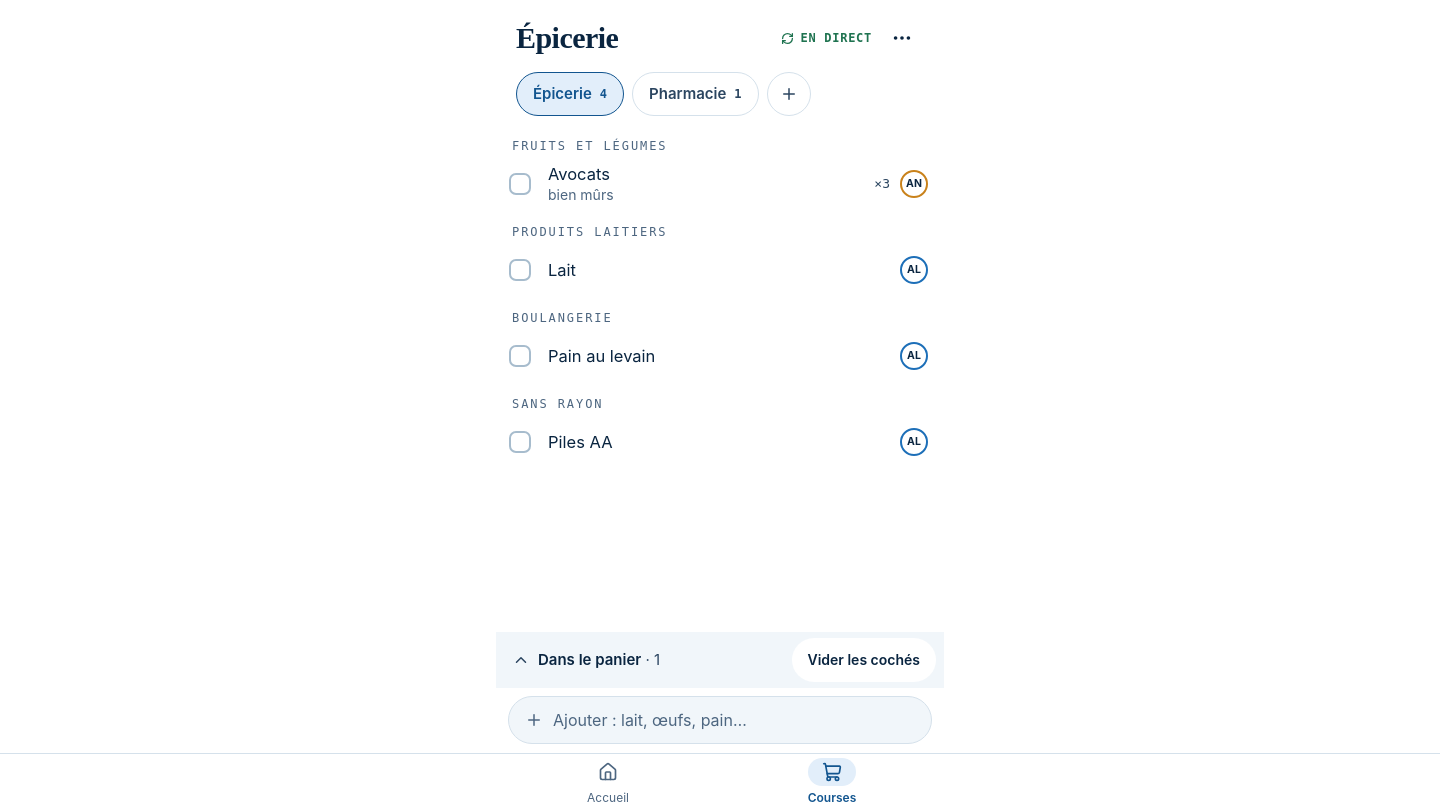
Test case: cocher et le panier › cocher envoie l’article dans le panier, puis vider les cochés le range
Expected: the heading "Épicerie" is shown, [516,21,618,54]
Expected: the button "Dans le panier · 1" is shown, [504,636,784,684]
Click the checkbox named "Lait" at (520, 270), box [496,246,544,294]
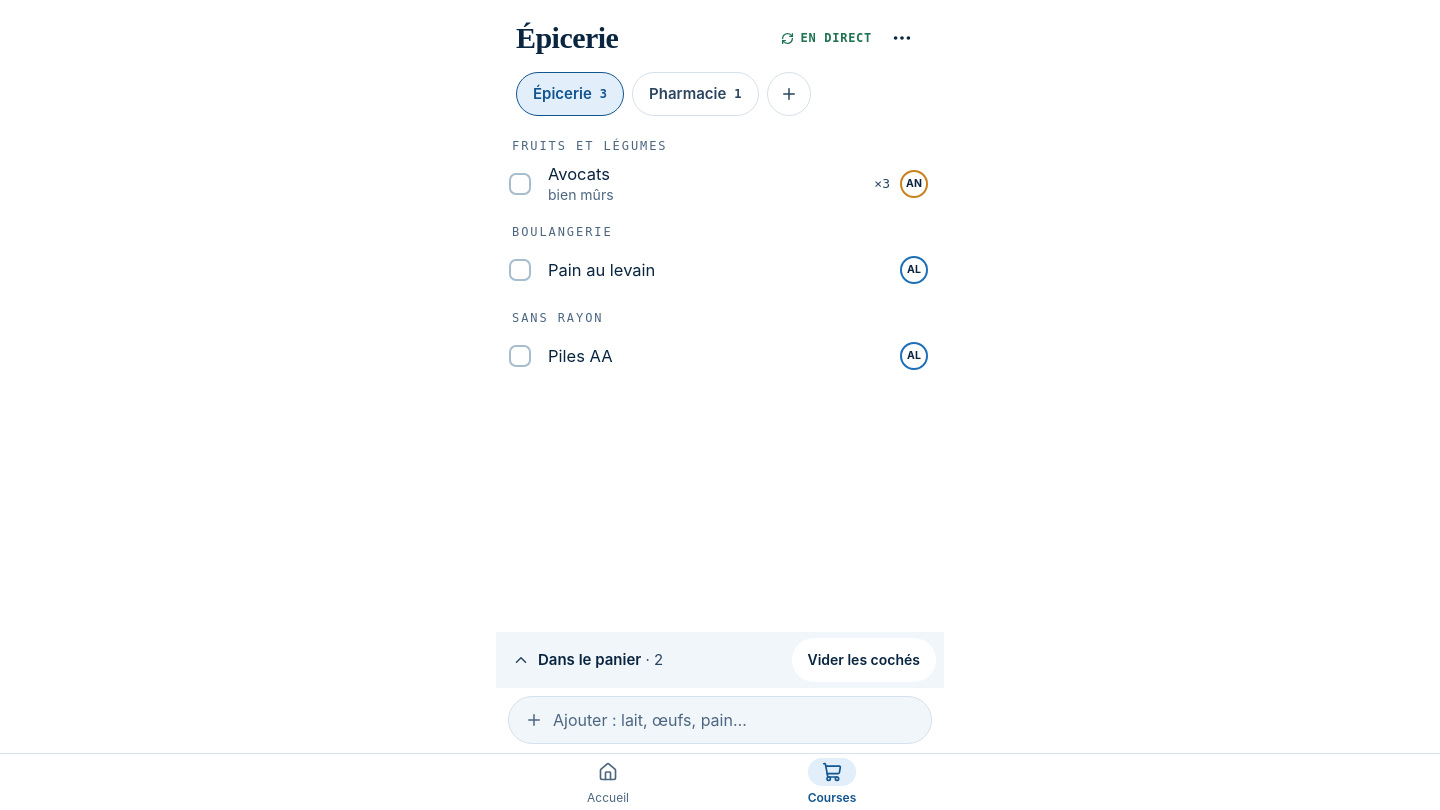
Now the heading "Produits laitiers" is gone
Now the button "Dans le panier · 2" is shown
Click the button "Dans le panier · 2" at (644, 660), box [504,636,784,684]
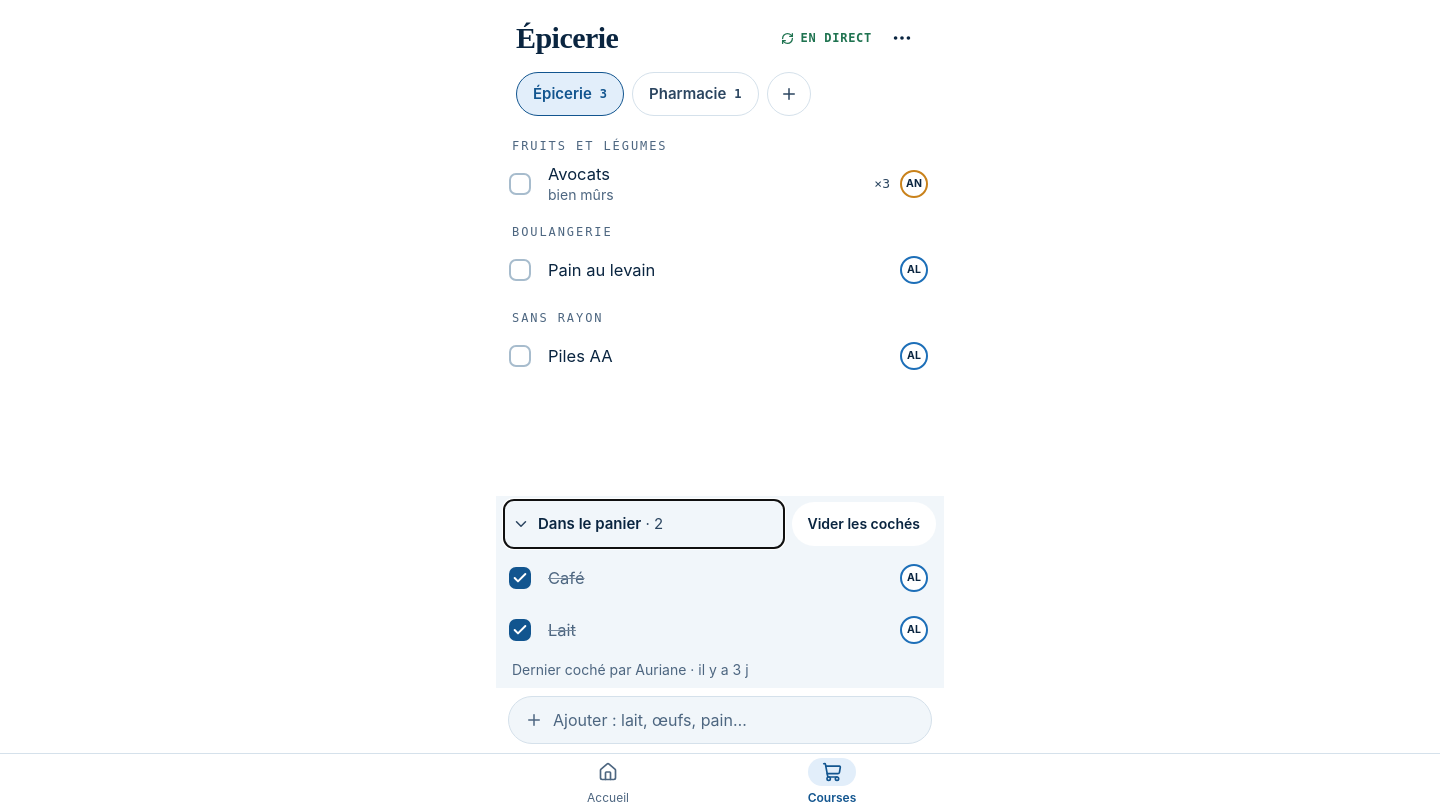
Now the checkbox named "Lait" is checked, box [496,606,544,654]
Now the checkbox named "Café" is checked, box [496,554,544,602]
Click the button "Vider les cochés" at (864, 524), box [792,502,936,546]
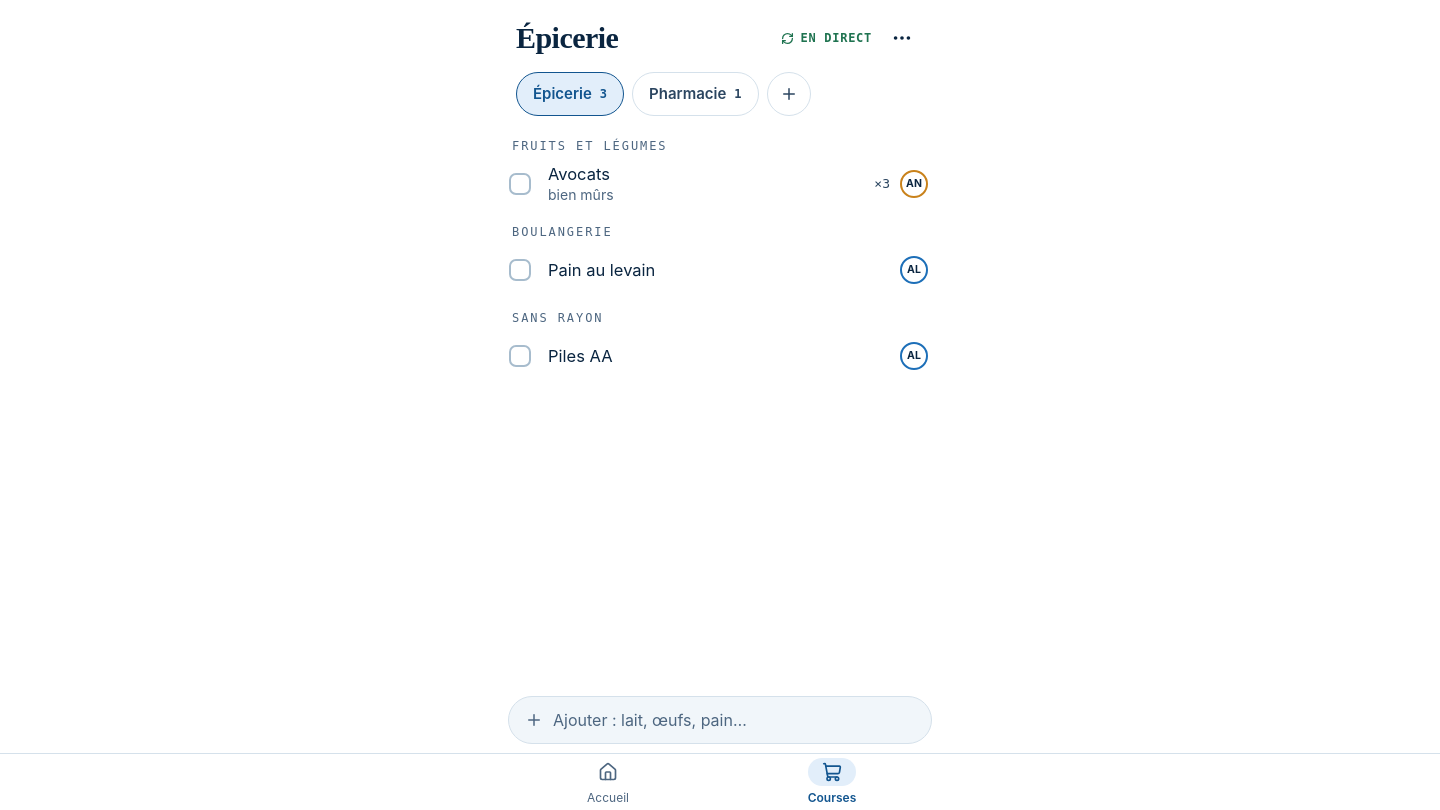
Now the button "Dans le panier" is gone
